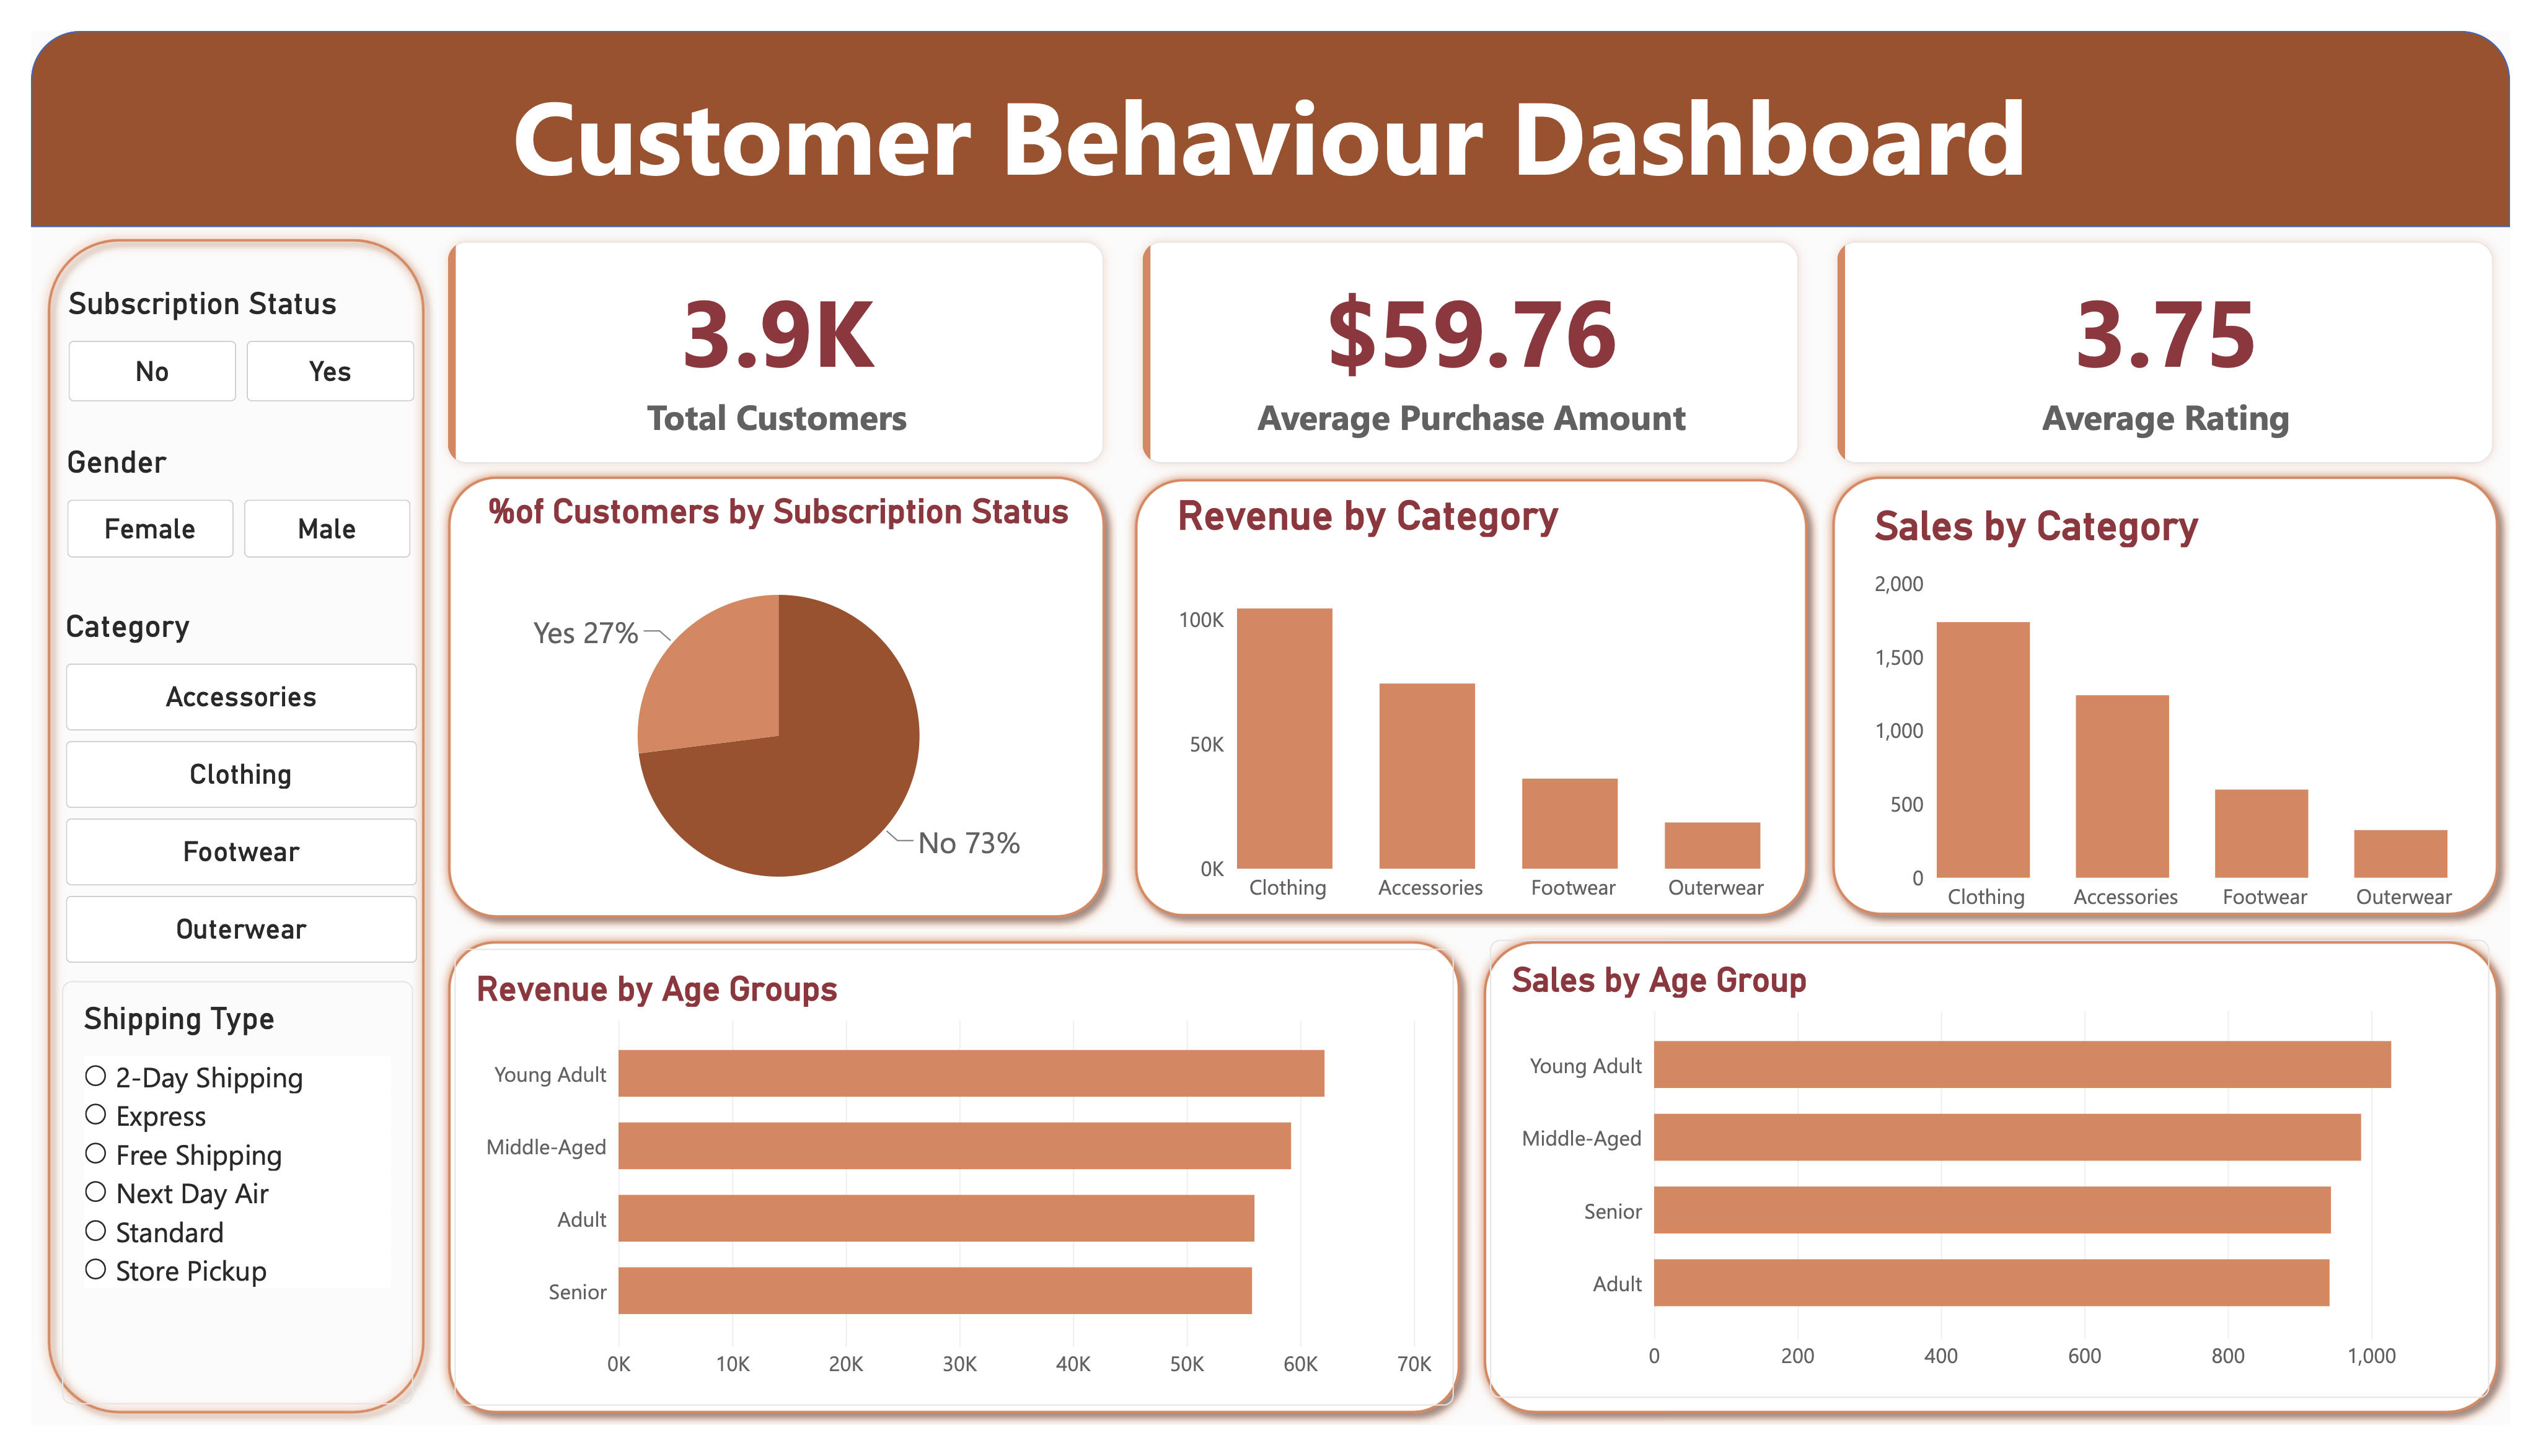

What the dashboard file says about the page in this screenshot:
{"tool":"powerbi","page":{"name":"Page 1","canvas":[1920,1080],"ordinal":0},"visuals":[{"type":"shape","box":[314,336,526.9,360.2],"z":0,"group":"g7"},{"type":"shape","box":[1386,336,534,358],"z":0,"group":"g2"},{"type":"shape","box":[846,338,538.9,356.8],"z":0,"group":"g1"},{"type":"pieChart","title":"%of Customers by Subscription Status","fields":{"Category":["public customer.subscription_status"],"Y":["CountNonNull(public customer.customer_id)"]},"box":[316.2,342.4,525.8,363.6],"z":0,"group":"g7"},{"type":"shape","box":[1116,696,804,384],"z":0,"group":"g3"},{"type":"shape","box":[0,0,1920,152],"z":1000,"group":"g6"},{"type":"cardVisual","fields":{"Data":["public customer.Total Customers","public customer.Average Purchase Amount","public customer.Average Rating"]},"box":[312,152,1608.9,194.2],"z":1000},{"type":"group","id":"g1","title":"Group 2","box":[846,338,540,358],"z":1000},{"type":"clusteredColumnChart","title":"Revenue by Category","fields":{"Category":["public customer.category"],"Y":["Sum(public customer.purchase_amount)"]},"box":[871.9,343.2,492,351.6],"z":1000,"group":"g1"},{"type":"clusteredColumnChart","title":"Sales by Category","fields":{"Category":["public customer.category"],"Y":["CountNonNull(public customer.customer_id)"]},"box":[1412,351.1,485.1,350.9],"z":1000,"group":"g2"},{"type":"barChart","title":"Sales by Age Group","fields":{"Category":["public customer.age_groups"],"Y":["CountNonNull(public customer.customer_id)"]},"box":[1129.9,704.3,774.3,354.9],"z":1000,"group":"g3"},{"type":"textbox","title":"Customer Behaviour Dashboard","box":[0,26.4,1920,98.9],"z":2000,"group":"g6"},{"type":"group","id":"g2","title":"Group 3","box":[1386,336,534,366],"z":2000},{"type":"group","id":"g3","title":"Group 4","box":[1116,696,804,384],"z":3000},{"type":"group","id":"g4","title":"Group 5","box":[314,696,802,384],"z":4000},{"type":"group","id":"g5","title":"Group 6","box":[4,152,310,928],"z":5000},{"type":"group","id":"g6","title":"Group 7","box":[0,0,1920,152],"z":6000},{"type":"shape","box":[4,152,310,928],"z":6000,"group":"g5"},{"type":"group","id":"g7","title":"Group 1","box":[314,336,528,370],"z":6001},{"type":"advancedSlicerVisual","title":"Subscription Status","fields":{"Values":["public customer.subscription_status"]},"box":[28.5,197.1,268,94],"z":7000,"group":"g5"},{"type":"advancedSlicerVisual","title":"Gender","fields":{"Values":["public customer.gender"]},"box":[28.4,319.9,266.5,91.6],"z":8000,"group":"g5"},{"type":"advancedSlicerVisual","title":"Category","fields":{"Values":["public customer.category"]},"box":[27,447,272.2,280.7],"z":9000,"group":"g5"},{"type":"listSlicer","title":"Shipping Type","fields":{"Values":["public customer.shipping_type"]},"box":[23.9,735.8,272.2,327.8],"z":10000,"group":"g5"},{"type":"shape","box":[314,696,802,384],"z":10500,"group":"g4"},{"type":"barChart","title":"Revenue by Age Groups","fields":{"Category":["public customer.age_groups"],"Y":["Sum(public customer.purchase_amount)"]},"box":[327.9,710.5,774.3,354.9],"z":11000,"group":"g4"}]}

Visuals, with their boxes in screenshot pixels (x1, y1, x2, y2):
shape: (x1=436, y1=458, x2=1124, y2=928)
shape: (x1=1835, y1=458, x2=2532, y2=926)
shape: (x1=1130, y1=461, x2=1834, y2=926)
"%of Customers by Subscription Status" pieChart: (x1=439, y1=467, x2=1125, y2=941)
shape: (x1=1483, y1=928, x2=2532, y2=1429)
shape: (x1=27, y1=20, x2=2532, y2=218)
cardVisual - public customer.Total Customers x public customer.Average Purchase Amount: (x1=434, y1=218, x2=2534, y2=471)
"Group 2" group: (x1=1130, y1=461, x2=1835, y2=928)
"Revenue by Category" clusteredColumnChart: (x1=1165, y1=468, x2=1807, y2=926)
"Sales by Category" clusteredColumnChart: (x1=1869, y1=478, x2=2503, y2=936)
"Sales by Age Group" barChart: (x1=1501, y1=939, x2=2512, y2=1402)
"Customer Behaviour Dashboard" textbox: (x1=27, y1=55, x2=2532, y2=183)
"Group 3" group: (x1=1835, y1=458, x2=2532, y2=936)
"Group 4" group: (x1=1483, y1=928, x2=2532, y2=1429)
"Group 5" group: (x1=436, y1=928, x2=1483, y2=1429)
"Group 6" group: (x1=32, y1=218, x2=436, y2=1429)
"Group 7" group: (x1=27, y1=20, x2=2532, y2=218)
shape: (x1=32, y1=218, x2=436, y2=1429)
"Group 1" group: (x1=436, y1=458, x2=1125, y2=941)
"Subscription Status" advancedSlicerVisual: (x1=64, y1=277, x2=413, y2=400)
"Gender" advancedSlicerVisual: (x1=64, y1=437, x2=412, y2=557)
"Category" advancedSlicerVisual: (x1=62, y1=603, x2=417, y2=969)
"Shipping Type" listSlicer: (x1=58, y1=980, x2=413, y2=1408)
shape: (x1=436, y1=928, x2=1483, y2=1429)
"Revenue by Age Groups" barChart: (x1=454, y1=947, x2=1465, y2=1410)
